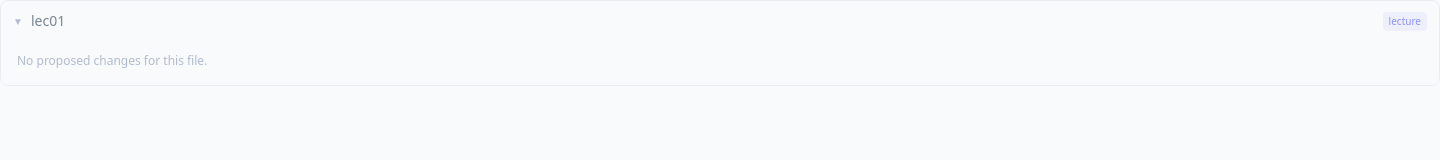
FileSection › allows files with no changes to collapse and expand
Check: the text "No proposed changes for this file." is shown, box [17,52,207,69]
Click the button "▼ lec01 lecture". click: (48, 20)
box: [13,11,1427,31]
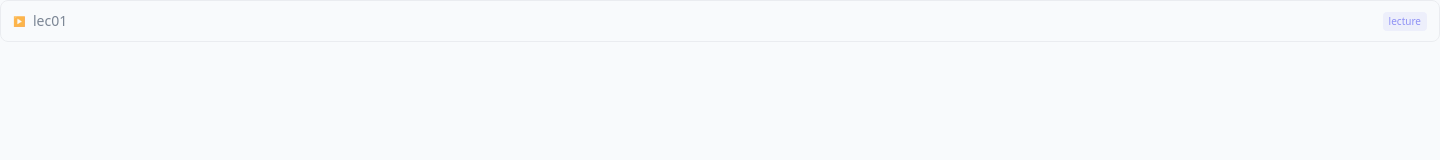
Check: the text "No proposed changes for this file." is gone
Click the button "▶ lec01 lecture". click: (50, 20)
box: [13,11,1427,31]
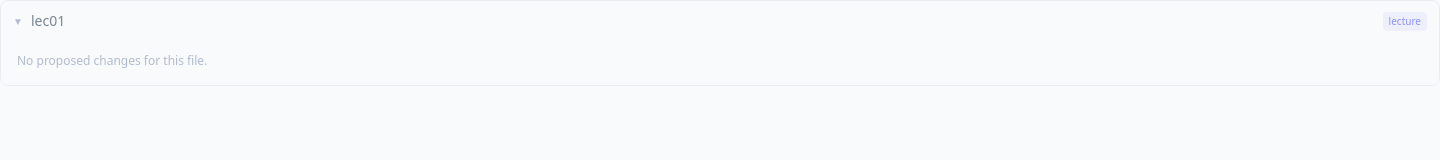
Check: the text "No proposed changes for this file." is shown, box [17,52,207,69]
